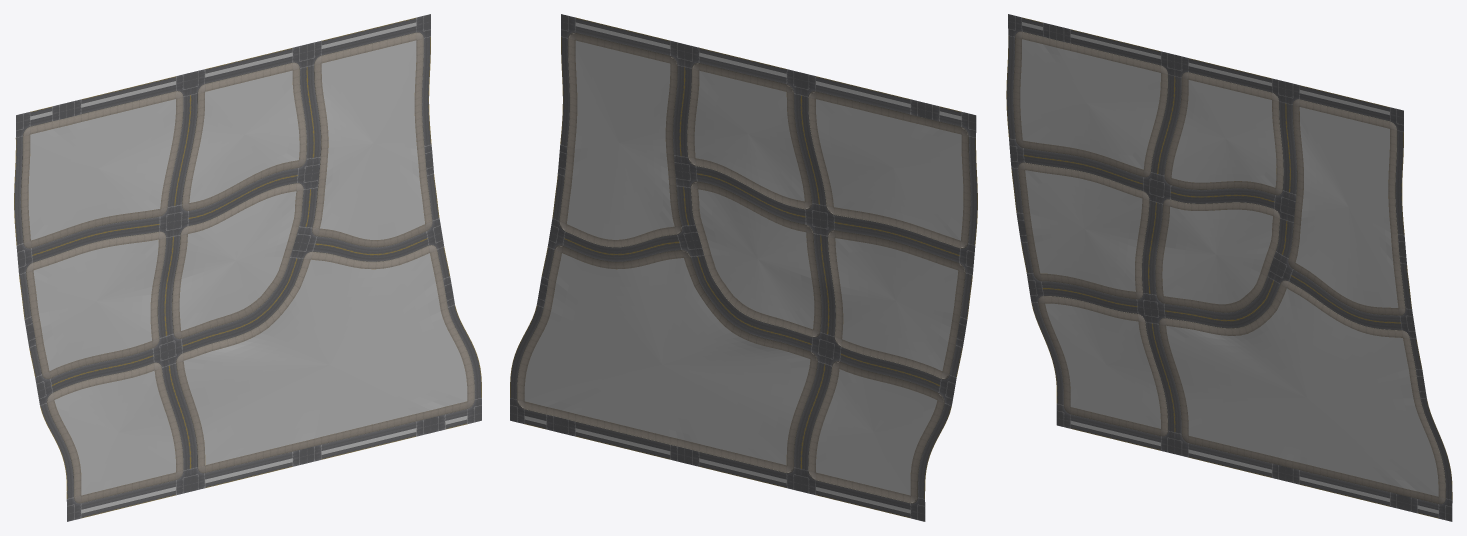
File: city.obj
The picture shows the model from 3 angles, left to right: view 1: azimuth 30°, elevation 25°; view 2: azimuth 150°, elevation 25°; view 3: azimuth 330°, elevation 25°; orthographic projection. The views are drawn at different scales.
Parts seen in each view (by area): view 1: city; view 2: city; view 3: city.
Boxes of the visible parts, box(x1,y1,x2,y2) form: city: box(14, 14, 481, 521); city: box(510, 14, 977, 521); city: box(1006, 14, 1452, 521).
Bounding box in the file's own units: 321 × 275 × 2.03.
